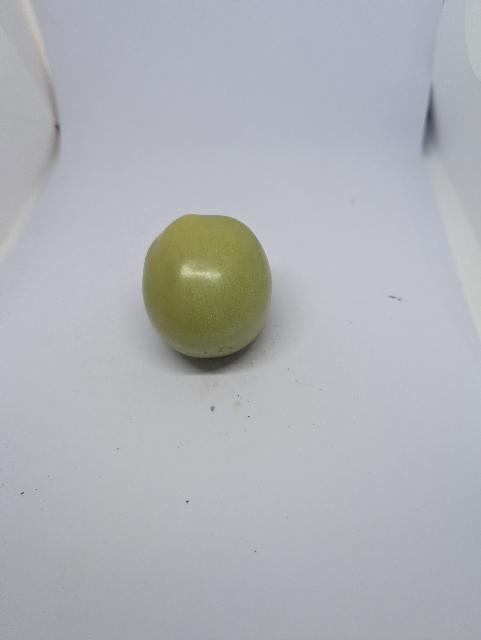green: (140, 209, 275, 363)
